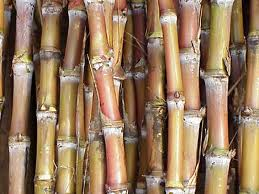cane eye: (241, 107, 253, 117), (38, 103, 48, 112), (173, 91, 181, 98)
